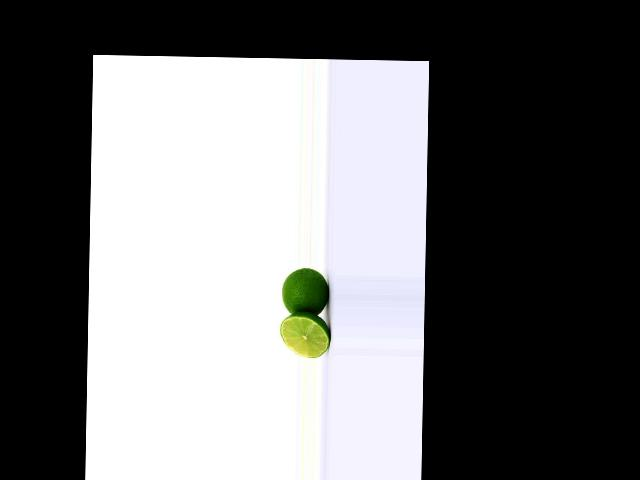lemon: (280, 265, 332, 316)
